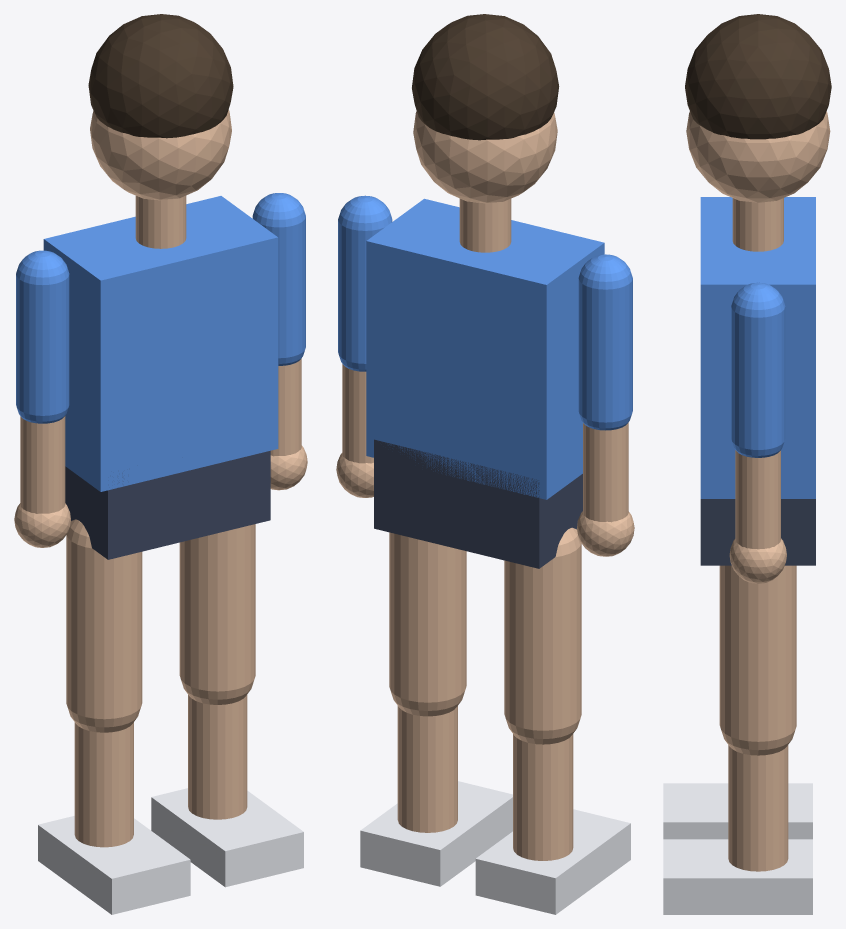
3 views of the same model, side by side, from view 1: azimuth 30°, elevation 25°; view 2: azimuth 150°, elevation 25°; view 3: azimuth 270°, elevation 25° (orthographic).
Parts seen in each view (by area): view 1: torso, hair, left_thigh, pelvis, right_thigh, left_foot, right_foot, left_upper_arm, head, right_shin, left_shin, right_upper_arm (+5 smaller); view 2: torso, pelvis, hair, left_thigh, right_thigh, left_upper_arm, left_foot, right_foot, head, left_shin, right_shin, right_upper_arm (+5 smaller); view 3: torso, hair, right_thigh, right_foot, right_upper_arm, head, right_shin, left_foot, pelvis, right_forearm, neck, right_hand.
Part boxes in pixels (x1=…): torso: x1=43, y1=196, x2=278, y2=491; hair: x1=88, y1=14, x2=233, y2=138; left_thigh: x1=66, y1=519, x2=142, y2=732; pelvis: x1=65, y1=450, x2=270, y2=559; right_thigh: x1=179, y1=524, x2=255, y2=704; left_foot: x1=38, y1=816, x2=190, y2=914; right_foot: x1=151, y1=788, x2=303, y2=887; left_upper_arm: x1=16, y1=250, x2=69, y2=423; head: x1=90, y1=110, x2=231, y2=200; right_shin: x1=188, y1=695, x2=247, y2=819; left_shin: x1=74, y1=722, x2=133, y2=847; right_upper_arm: x1=252, y1=193, x2=305, y2=365; torso: x1=366, y1=198, x2=604, y2=499; pelvis: x1=374, y1=439, x2=582, y2=568; hair: x1=412, y1=14, x2=559, y2=140; left_thigh: x1=504, y1=527, x2=581, y2=744; right_thigh: x1=389, y1=532, x2=466, y2=716; left_upper_arm: x1=578, y1=254, x2=632, y2=430; left_foot: x1=475, y1=809, x2=630, y2=914; right_foot: x1=360, y1=781, x2=512, y2=886; head: x1=413, y1=111, x2=557, y2=203; left_shin: x1=513, y1=734, x2=573, y2=860; right_shin: x1=397, y1=706, x2=457, y2=832; right_upper_arm: x1=338, y1=195, x2=392, y2=371; torso: x1=700, y1=197, x2=815, y2=498; hair: x1=685, y1=14, x2=831, y2=139; right_thigh: x1=719, y1=565, x2=796, y2=755; right_foot: x1=663, y1=839, x2=812, y2=914; right_upper_arm: x1=731, y1=282, x2=785, y2=457; head: x1=686, y1=111, x2=830, y2=202; right_shin: x1=728, y1=745, x2=788, y2=871; left_foot: x1=663, y1=783, x2=812, y2=839; pelvis: x1=700, y1=499, x2=815, y2=565; right_forearm: x1=735, y1=450, x2=780, y2=549; neck: x1=732, y1=198, x2=783, y2=251; right_hand: x1=729, y1=538, x2=786, y2=583.
Size of the model in its own units: 1.16 by 3.24 by 0.585.
